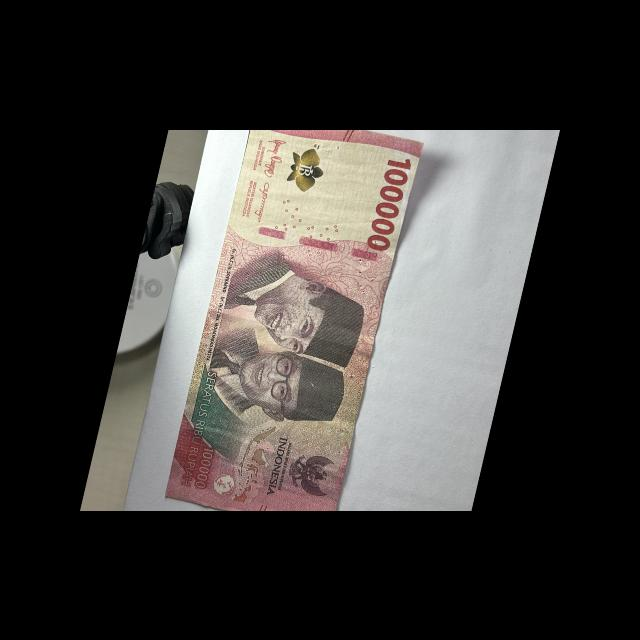Palsu-100k: (159, 99, 426, 539)
Tinta-Palsu-100k: (284, 142, 330, 195)
